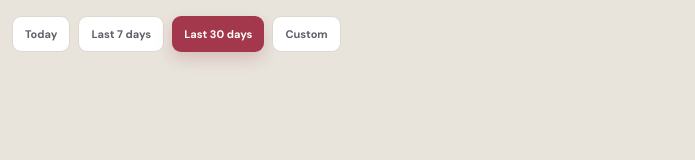
Test: ReportPeriodSelector › disables Apply while the custom range is invalid
This screenshot has width=695, height=160.
Click the button "Custom" at (307, 34), box [272,16,341,52]
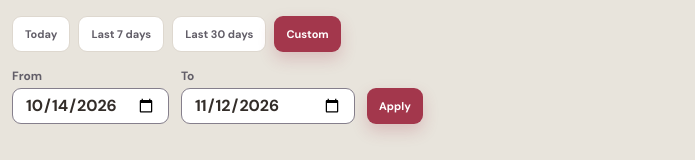
Type "2026-12-01" into the date field labelled "From" at (90, 106), box [12,88,169,124]
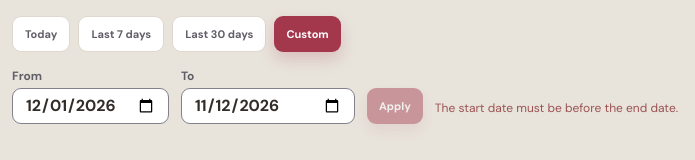
Now the message shows "before", box [435,100,678,116]
Now the button "Apply" is disabled, box [367,88,423,124]
